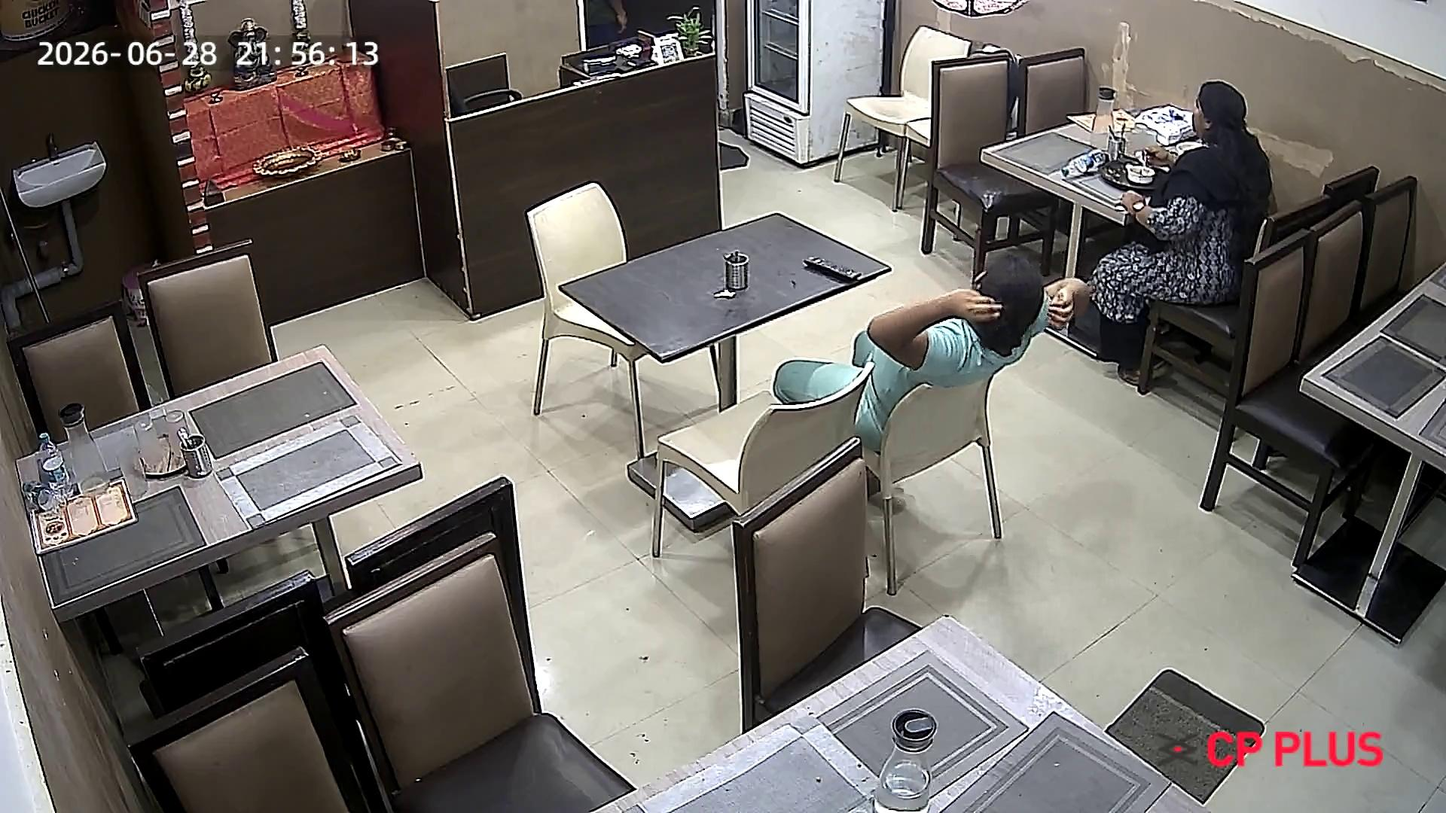dirty: (18, 337, 428, 608)
occupied: (574, 183, 1005, 429), (697, 629, 1246, 813), (1028, 75, 1358, 277)
